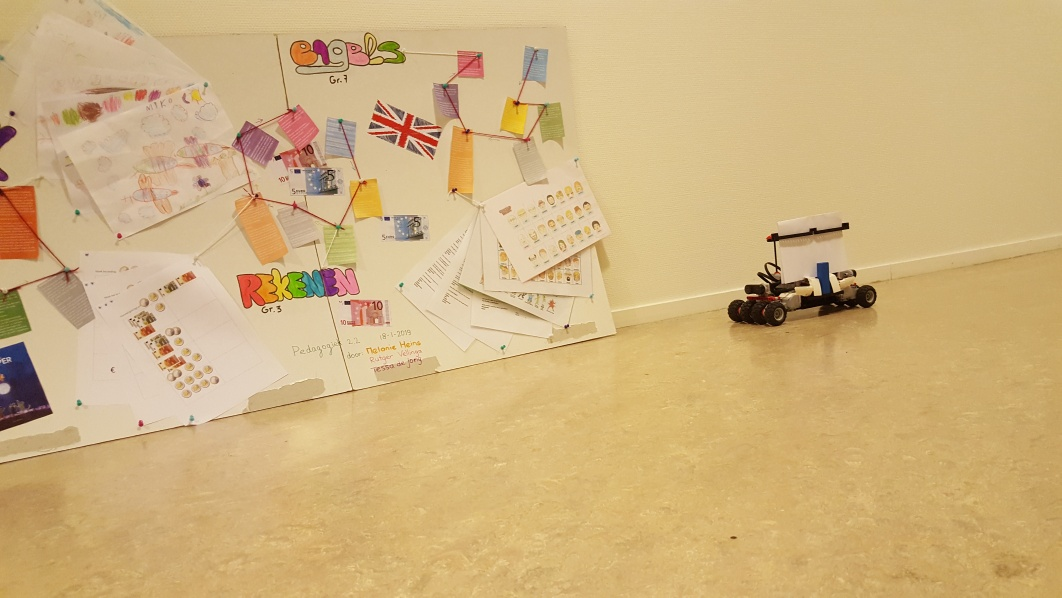car: (727, 211, 878, 328)
